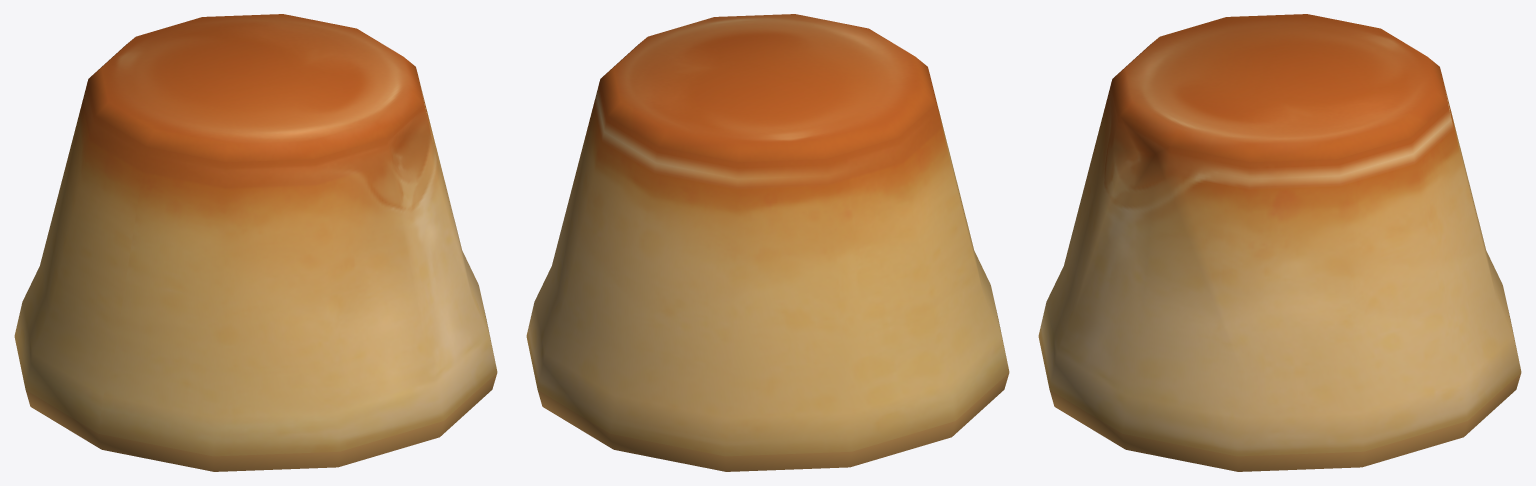
File: Pudding_2.FBX
3 views of the same model, side by side, from view 1: azimuth 30°, elevation 25°; view 2: azimuth 150°, elevation 25°; view 3: azimuth 270°, elevation 25° (orthographic).
Visible parts, largest first — view 1: Pudding_2; view 2: Pudding_2; view 3: Pudding_2.
Part boxes in pixels (<box>): Pudding_2: <box>14,14,497,471</box>; Pudding_2: <box>526,14,1009,471</box>; Pudding_2: <box>1038,14,1521,471</box>.
Bounding box in the file's own units: 35.96 × 24.05 × 35.96.
